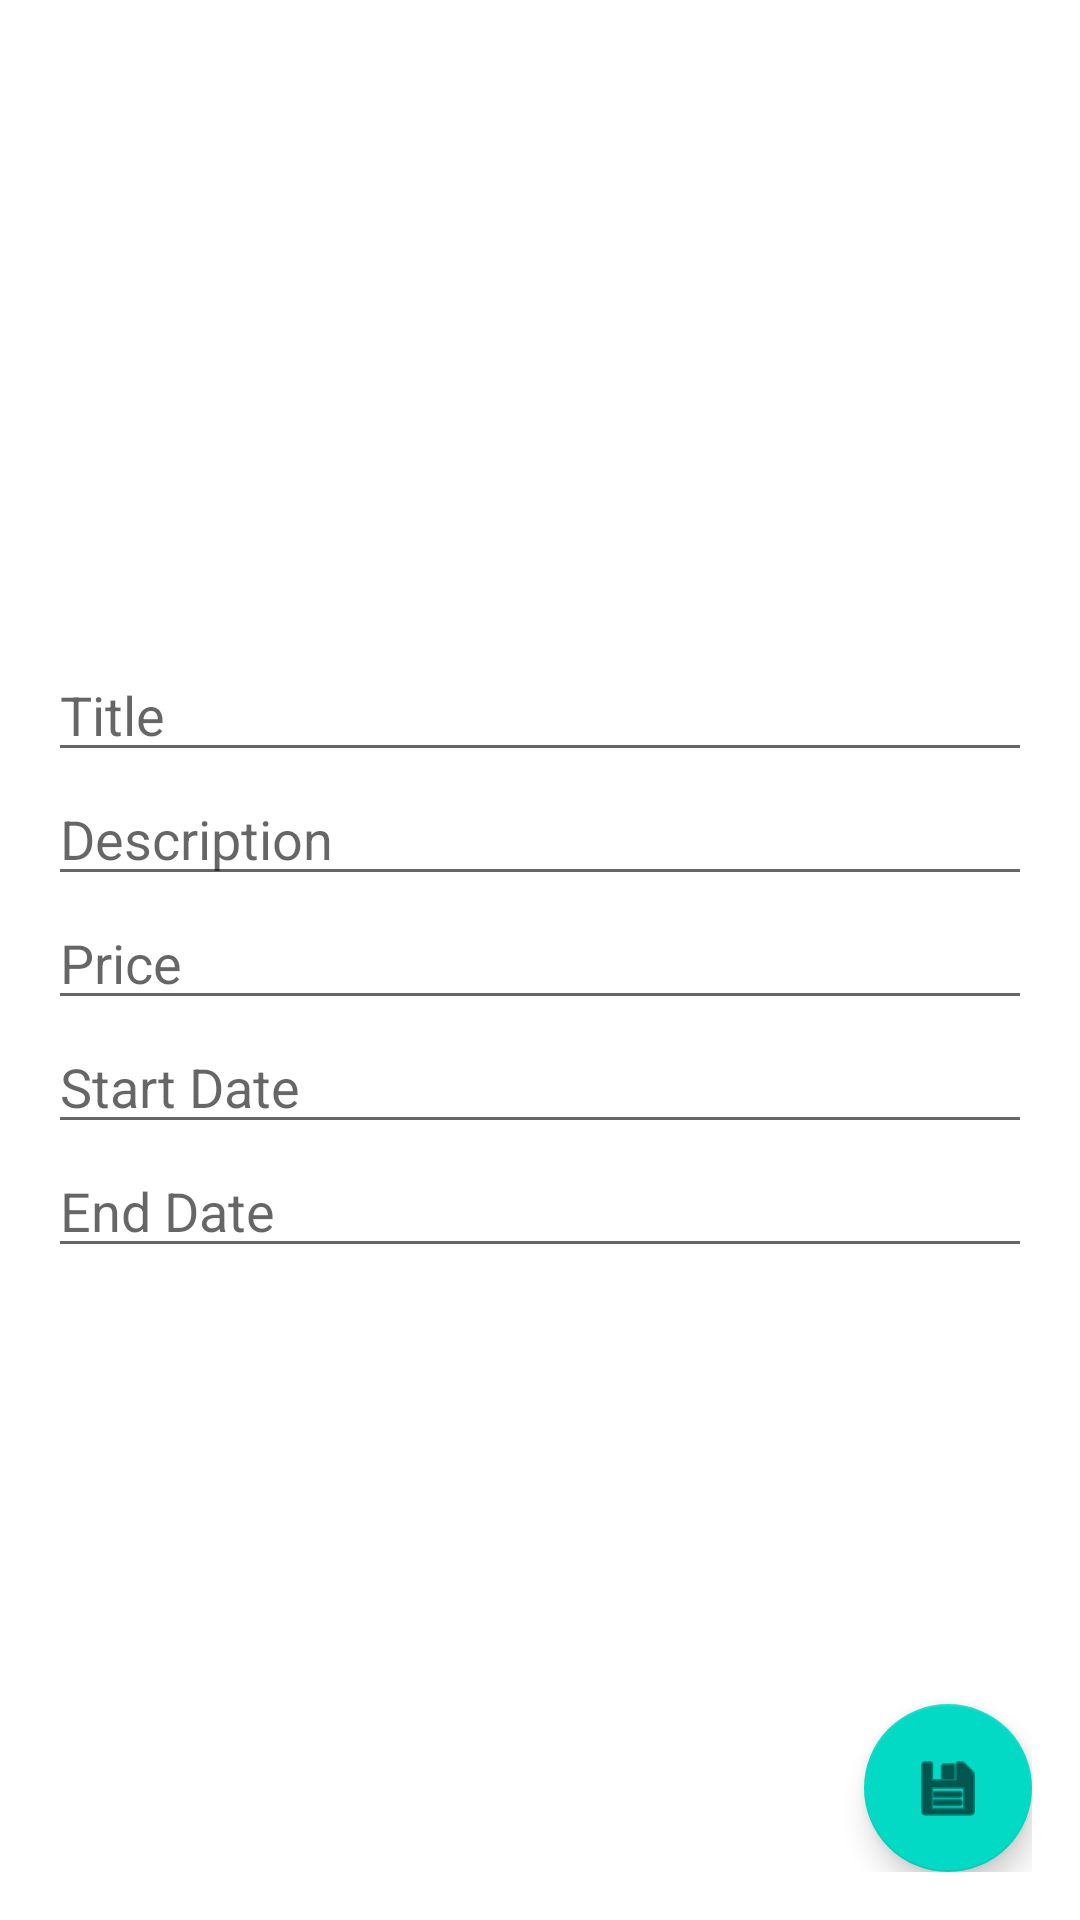

Point at icon controls on the screen. Image size 1080x1920, points as point (x, y).
Save trip: point (948, 1788)
